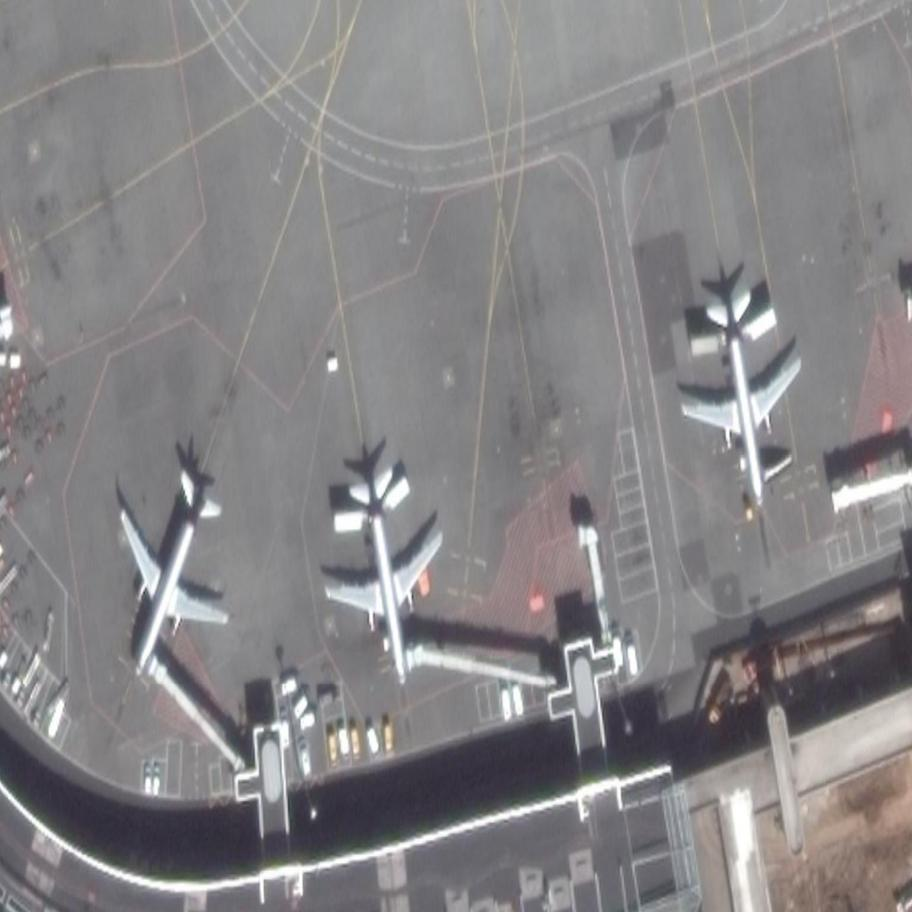plane: (73, 388, 268, 770), (312, 425, 458, 701), (666, 265, 816, 525)
small-vehicle: (151, 763, 162, 803), (144, 765, 152, 801)
